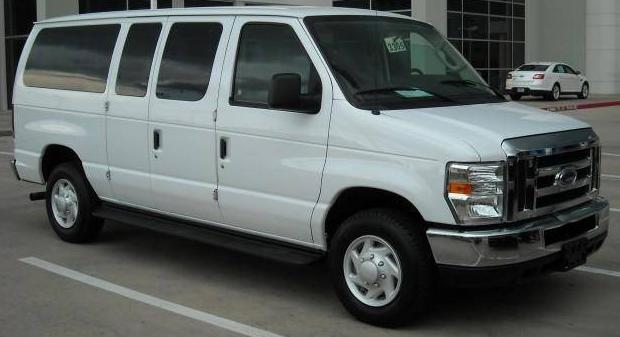front_view: (426, 134, 603, 277)
headlight: (429, 150, 535, 252)
side_glass: (149, 9, 332, 121)
